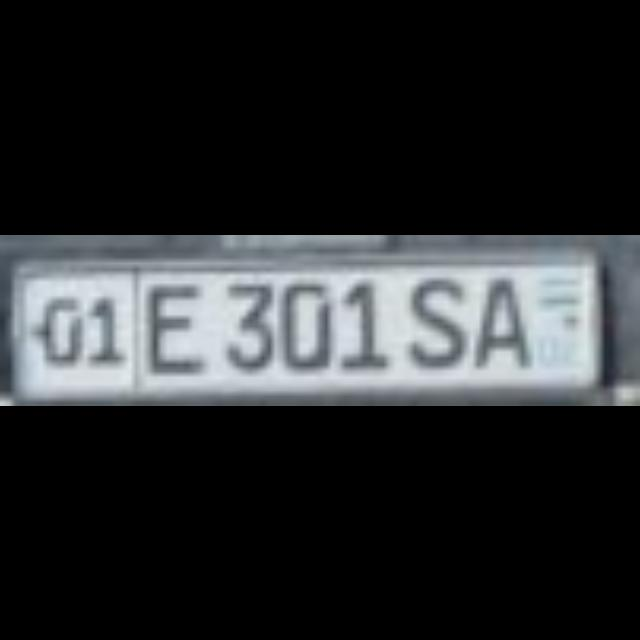0: (279, 272, 323, 361), (38, 285, 76, 355)
1: (336, 272, 380, 361), (82, 285, 114, 355)
3: (222, 279, 266, 361)
A: (468, 266, 526, 360)
E: (140, 278, 197, 368)
S: (400, 266, 462, 360)
